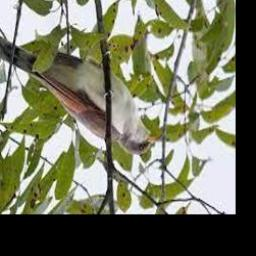Cuckoo: (0, 27, 166, 155)
